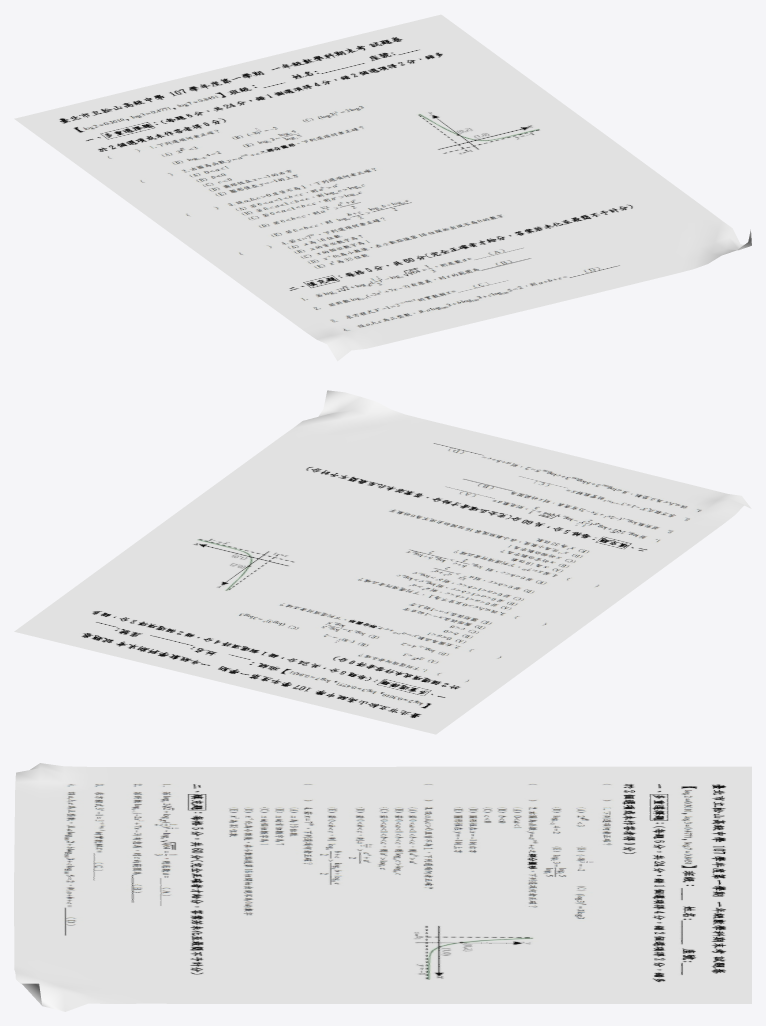
Rendered from 考試卷4.fbx.
The picture shows the model from 3 angles, top to bottom: view 1: azimuth 30°, elevation 25°; view 2: azimuth 150°, elevation 25°; view 3: azimuth 270°, elevation 25°; orthographic projection. The views are drawn at different scales.
Visible parts, largest first — view 1: Plane001; view 2: Plane001; view 3: Plane001.
Boxes of the visible parts, x1,y1,x2,y2 form: Plane001: (14, 14, 751, 361); Plane001: (14, 390, 751, 734); Plane001: (14, 763, 751, 1011).
Bounding box in the file's own units: 29.97 × 1.63 × 39.41.
Materials: 1 (1 with a texture image).
